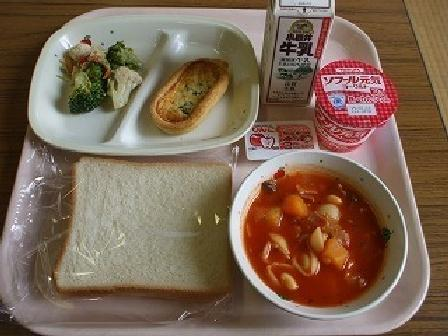Bread: (39, 141, 246, 310)
Milk: (249, 0, 343, 108)
Salad: (54, 34, 139, 113)
Soups: (235, 156, 412, 309)
casserole with meat and vegetables: (142, 47, 230, 138)
